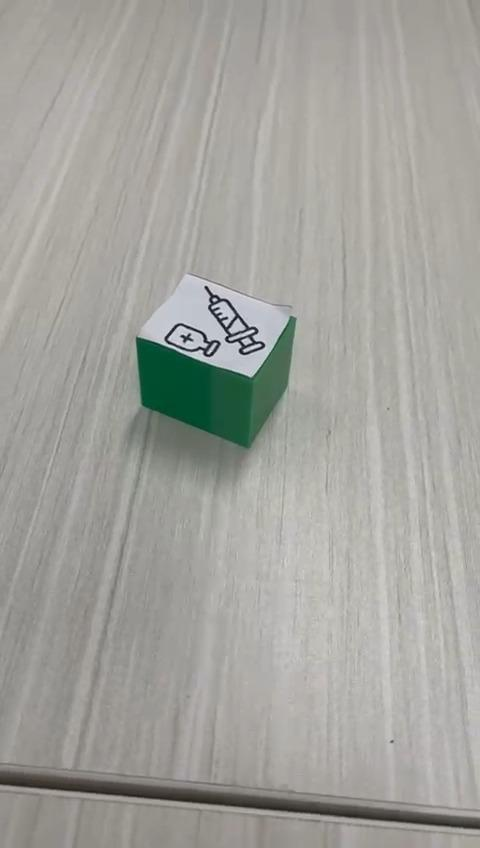antiseptic cream: (134, 271, 297, 449)
